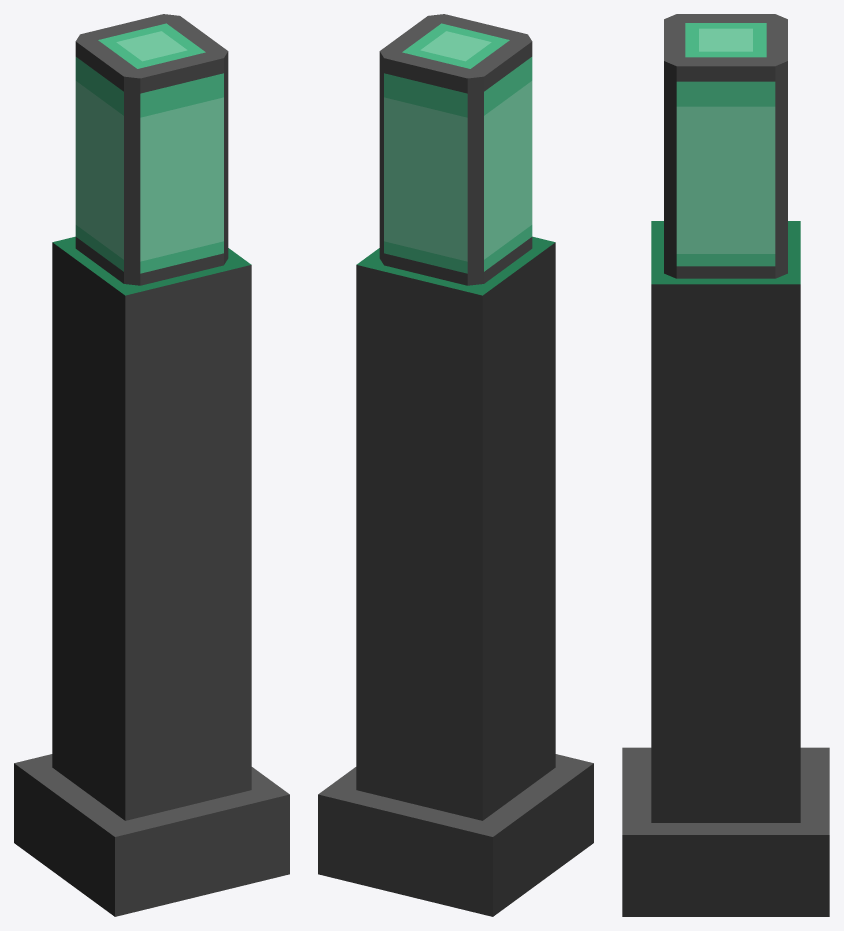
File: CRM_Reactor_Light_03.fbx
The picture shows the model from 3 angles, left to right: view 1: azimuth 30°, elevation 25°; view 2: azimuth 150°, elevation 25°; view 3: azimuth 270°, elevation 25°; orthographic projection. The views are drawn at different scales.
Parts seen in each view (by area): view 1: CRM_Reactor_Light_03; view 2: CRM_Reactor_Light_03; view 3: CRM_Reactor_Light_03.
Part boxes in pixels (x1,y1,x2,y2): CRM_Reactor_Light_03: [14, 14, 289, 916]; CRM_Reactor_Light_03: [318, 14, 593, 916]; CRM_Reactor_Light_03: [622, 14, 829, 916].
Size of the model in its own units: 0.2874 by 1.28 by 0.2874.
